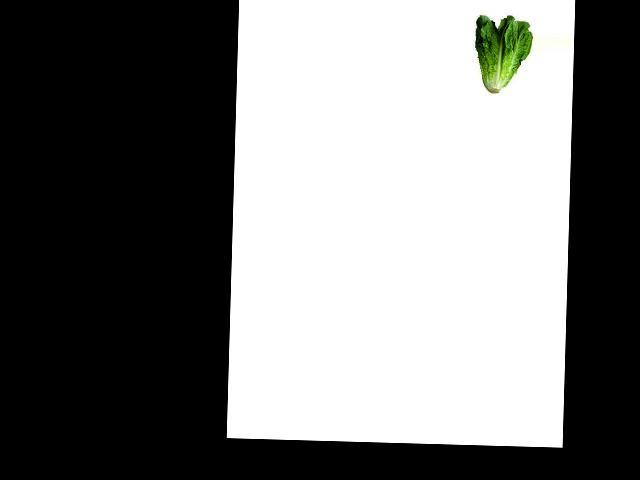lettuce: (472, 14, 532, 96)
